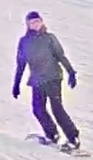snowboarder: (13, 11, 92, 158)
